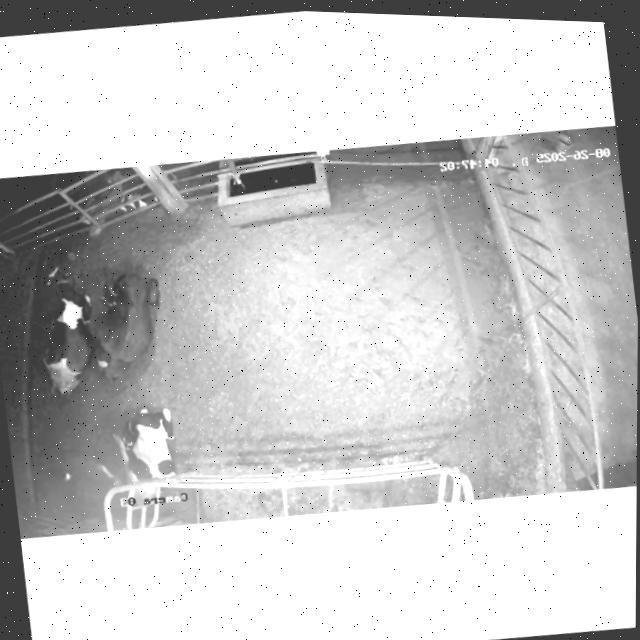lay: (81, 255, 183, 400), (21, 245, 103, 420), (93, 392, 195, 511)
